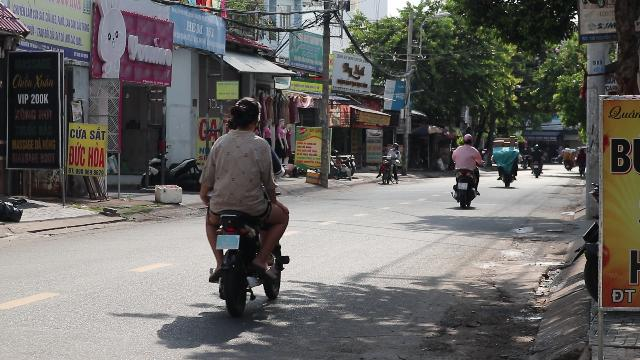motorcyclist: (195, 96, 292, 318)
nohelmet: (228, 97, 262, 131)
